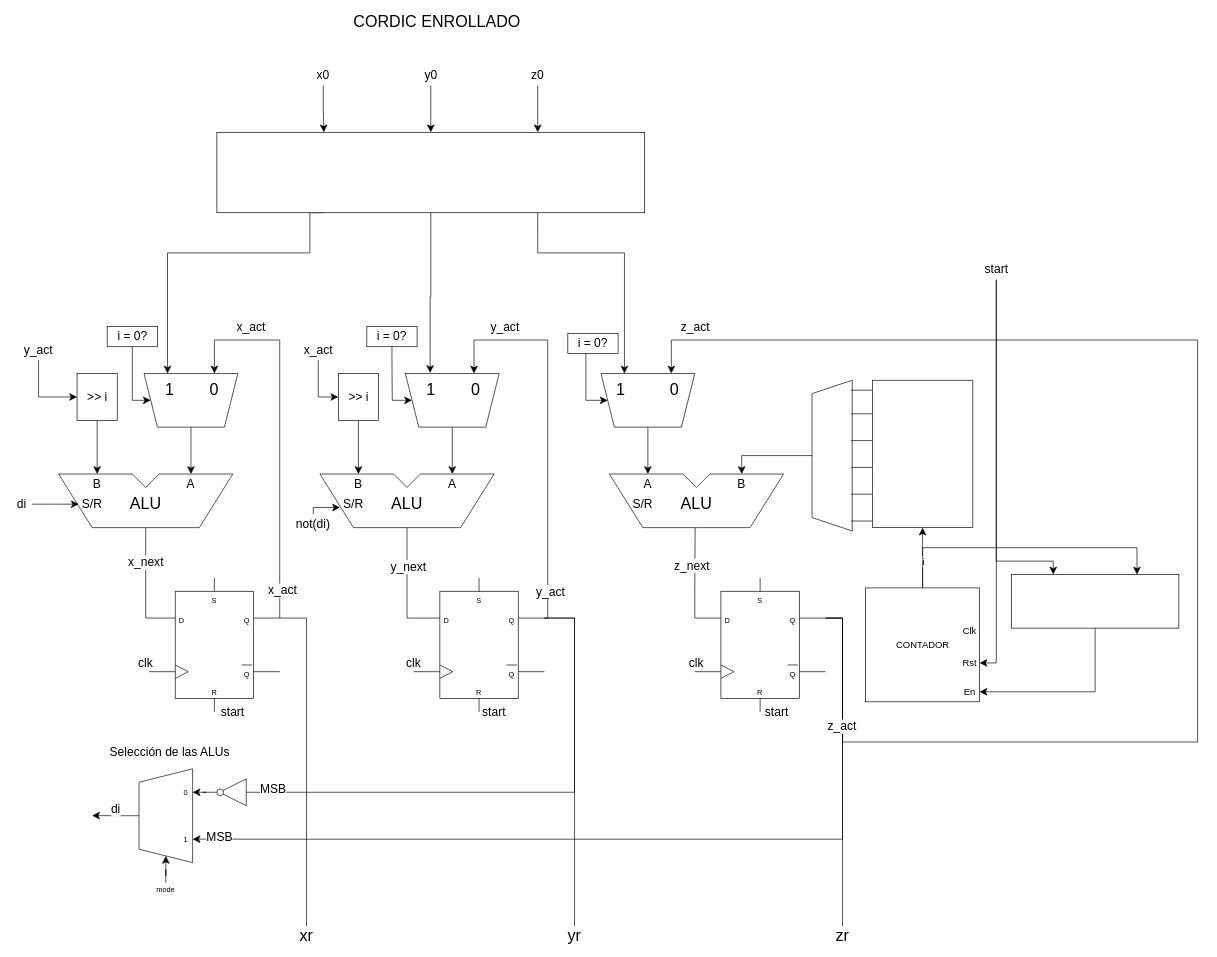
Image size: 1217x957. Some labels were removed from this diagram. The centre of each missing label's shape, as x and y in pixels:
"LUT BETAS" goes at point (922, 454).
"PRECORDIC" goes at point (430, 172).
"si flanco descendente entonces '1' si i = ITERACIONES entonces '0'" goes at point (1095, 601).
